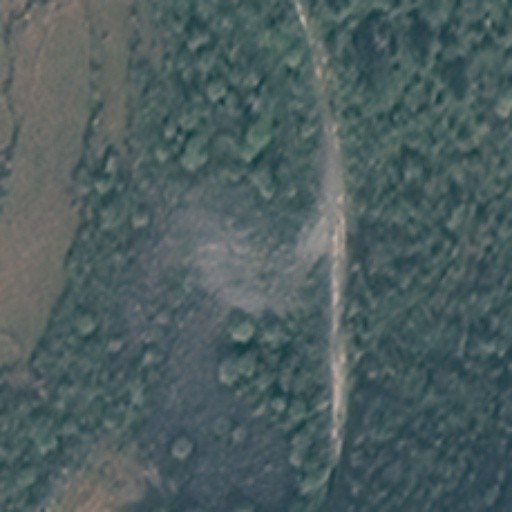landslide: (159, 185, 322, 314)
